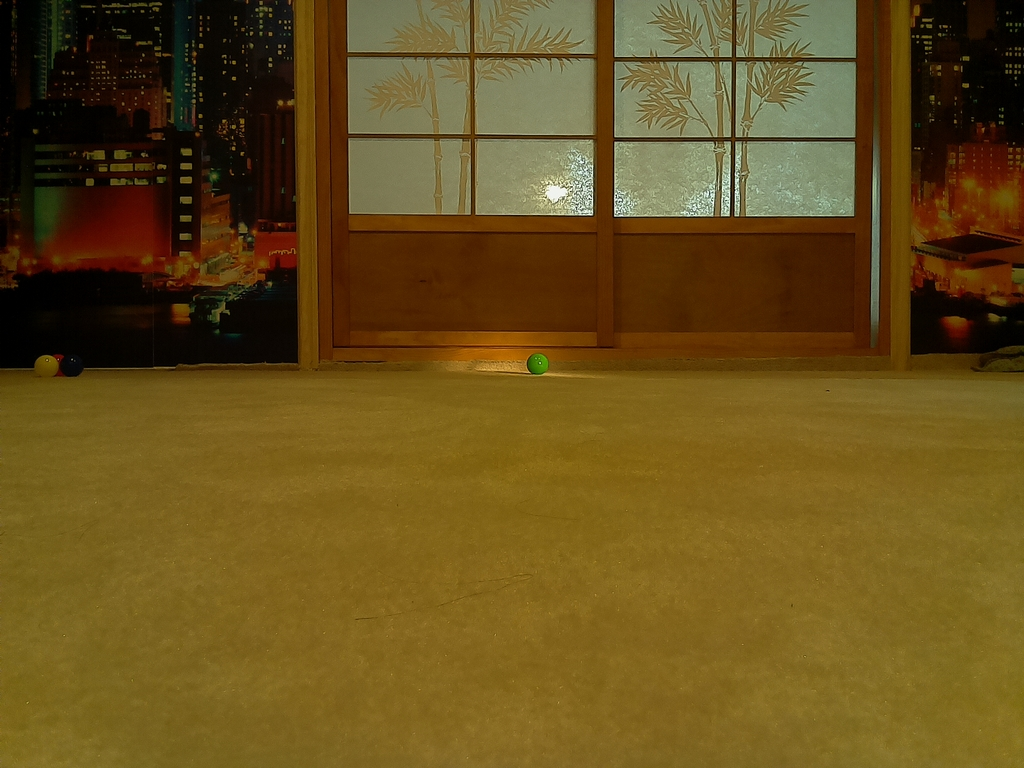ball: (35, 355, 58, 378)
